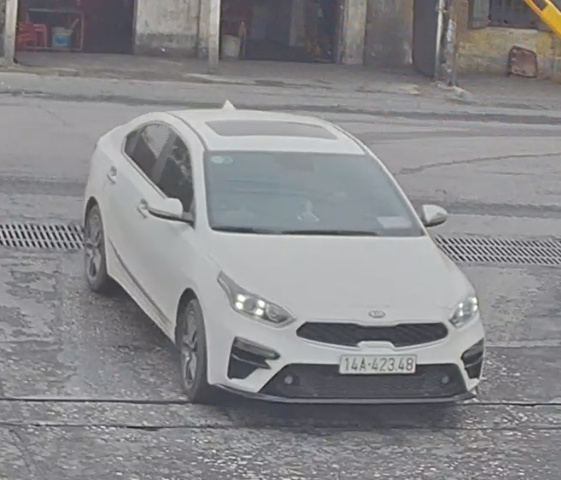vehicle plate: (338, 350, 421, 374)
